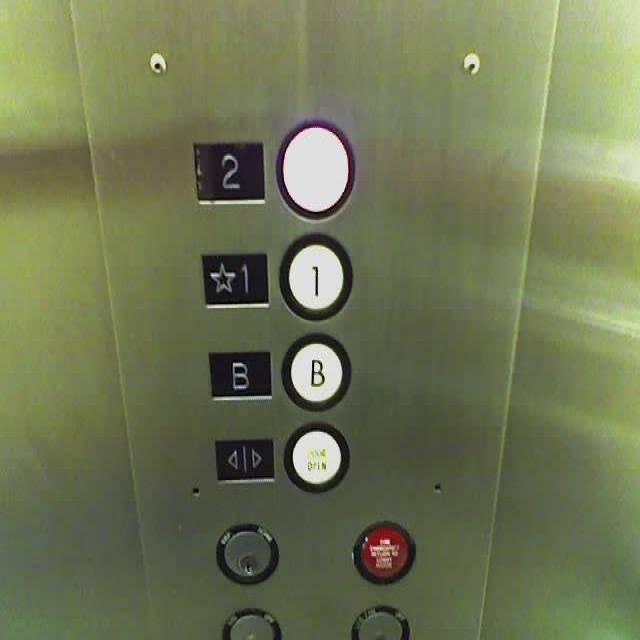1: (275, 228, 355, 324)
2: (188, 135, 269, 208)
B: (279, 328, 353, 409), (204, 347, 275, 400)
empty: (274, 115, 357, 222)
keyhole: (214, 518, 279, 586)
open: (210, 434, 278, 482)
s1: (197, 249, 272, 308)
text: (282, 417, 349, 492), (351, 514, 417, 586)
